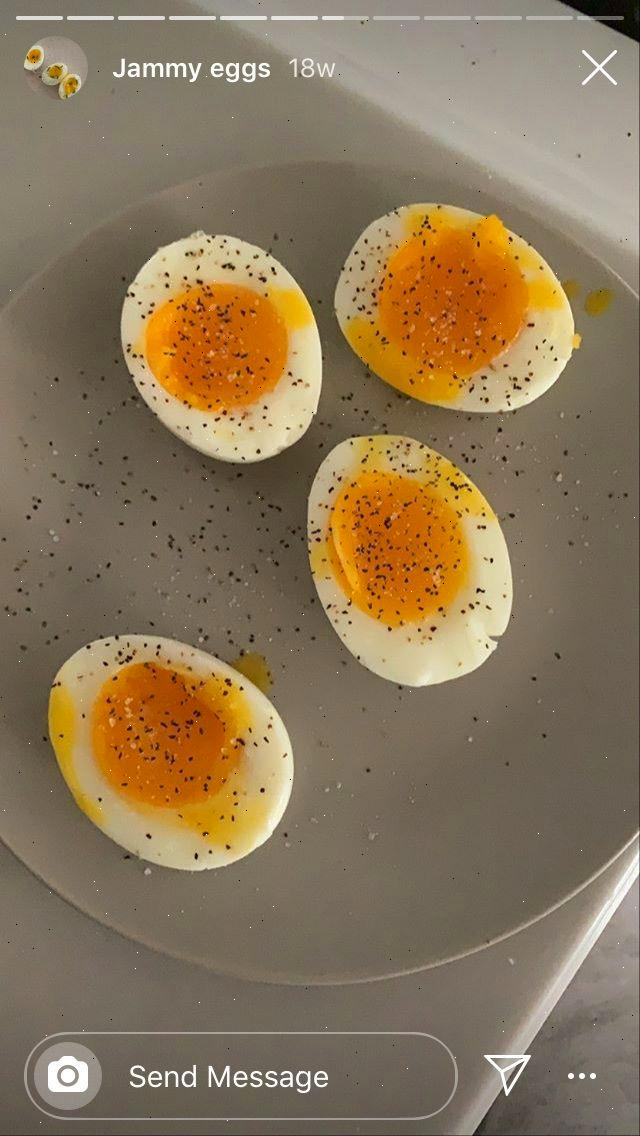eggs: (85, 201, 640, 866)
